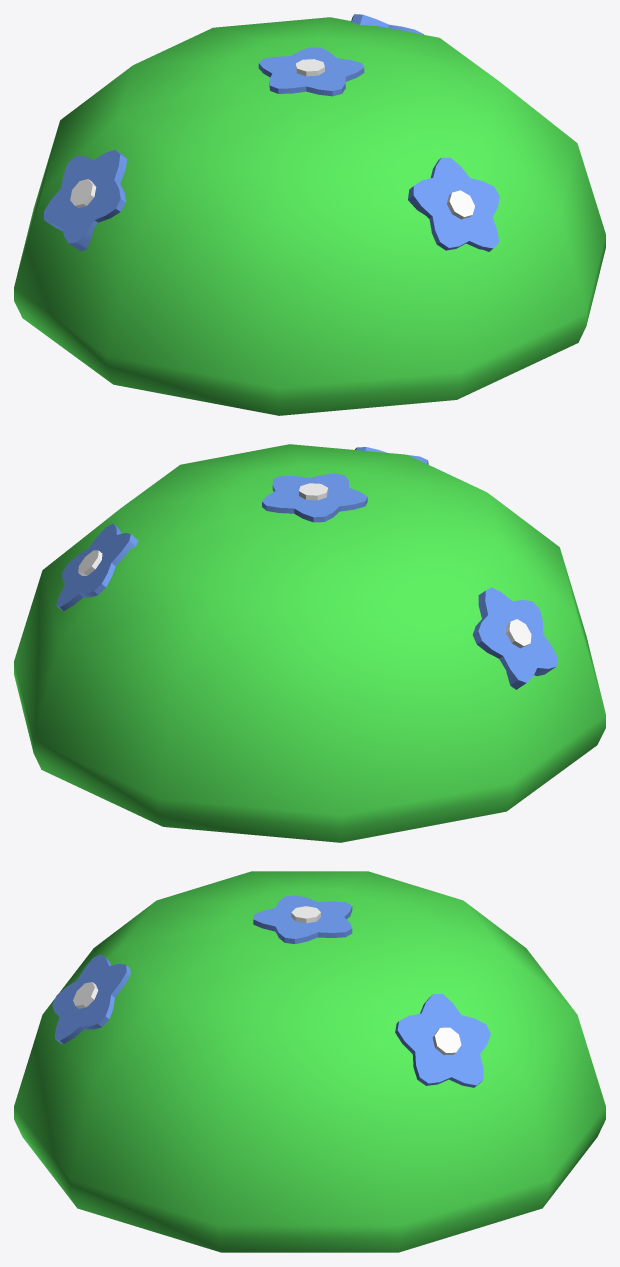
The model's file is Bush_B.fbx.
3 renders of one model, top to bottom at view 1: azimuth 30°, elevation 25°; view 2: azimuth 150°, elevation 25°; view 3: azimuth 270°, elevation 25°, orthographic. The views are drawn at different scales.
Parts seen in each view (by area): view 1: Bush_B; view 2: Bush_B; view 3: Bush_B.
Boxes of the visible parts, x1,y1,x2,y2 form: Bush_B: (14,14,605,415); Bush_B: (14,444,605,842); Bush_B: (14,871,605,1252).
Size of the model in its own units: 141 by 63.97 by 148.
